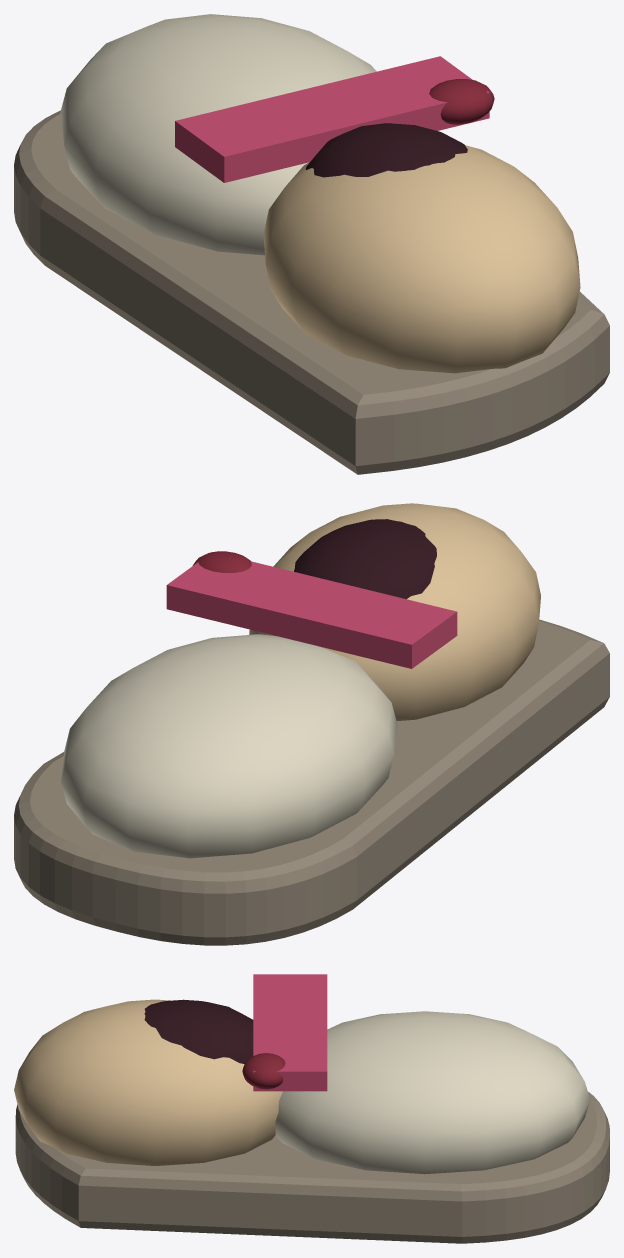
File: mia-shoe.glb
The picture shows the model from 3 angles, top to bottom: view 1: azimuth 30°, elevation 25°; view 2: azimuth 150°, elevation 25°; view 3: azimuth 270°, elevation 25°; orthographic projection. The views are drawn at different scales.
Parts seen in each view (by area): view 1: Body_mattress-seam, Body_ivory, Body_mattress, Body_balloon-rose, Body_dark, Body_velvet; view 2: Body_mattress-seam, Body_mattress, Body_ivory, Body_balloon-rose, Body_dark, Body_velvet; view 3: Body_mattress-seam, Body_mattress, Body_ivory, Body_balloon-rose, Body_dark, Body_velvet.
Part boxes in pixels (x1,y1,x2,y2): Body_mattress-seam: (14, 110, 609, 474); Body_ivory: (263, 145, 580, 373); Body_mattress: (60, 14, 376, 255); Body_balloon-rose: (175, 56, 489, 182); Body_dark: (305, 123, 467, 177); Body_velvet: (429, 79, 494, 124); Body_mattress-seam: (14, 619, 609, 945); Body_mattress: (61, 634, 397, 858); Body_ivory: (249, 503, 540, 720); Body_balloon-rose: (166, 552, 457, 668); Body_dark: (294, 519, 436, 599); Body_velvet: (192, 551, 251, 572); Body_mattress-seam: (15, 1092, 609, 1243); Body_mattress: (275, 1011, 590, 1174); Body_ivory: (14, 999, 282, 1165); Body_balloon-rose: (253, 974, 327, 1091); Body_dark: (144, 999, 253, 1063); Body_velvet: (242, 1053, 285, 1089).
Bounding box in the file's own units: 0.1401 × 0.088 × 0.274.
